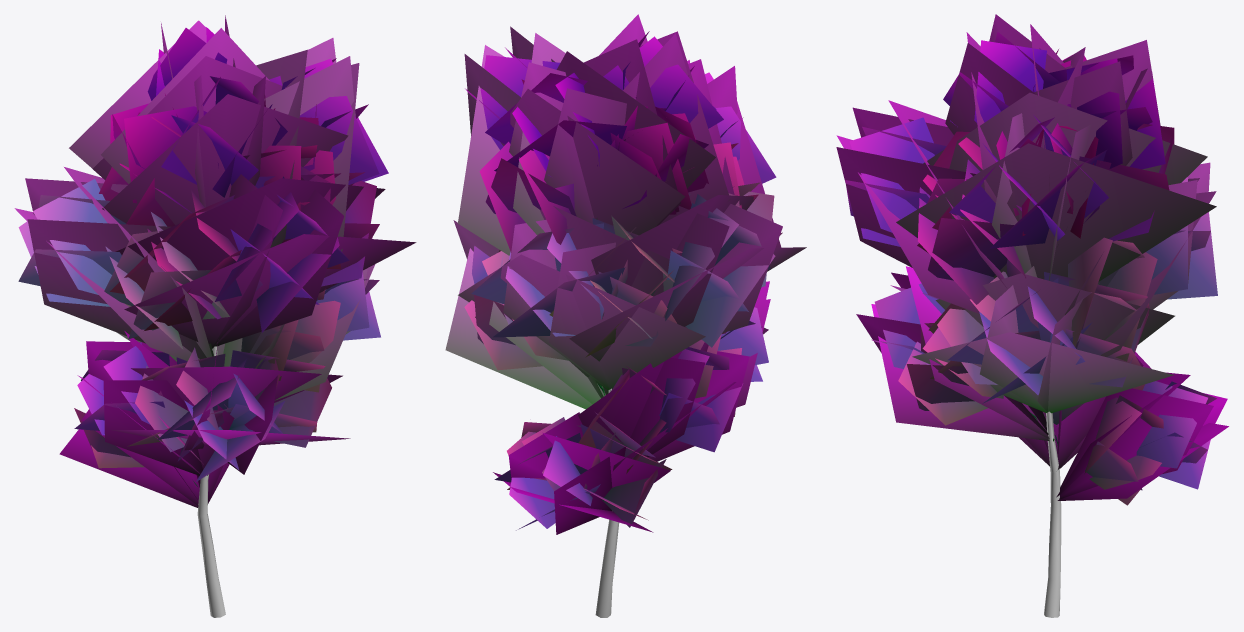
Rendered from oregonash_young.fbx.
3 views of the same model, side by side, from view 1: azimuth 30°, elevation 25°; view 2: azimuth 150°, elevation 25°; view 3: azimuth 270°, elevation 25° (orthographic).
Visible parts, largest first — view 1: tree_shadow, tree_branches_lod0, tree_trunk_lod0; view 2: tree_shadow, tree_branches_lod0, tree_trunk_lod0; view 3: tree_shadow, tree_branches_lod0, tree_trunk_lod0.
Part boxes in pixels (x1,y1,x2,y2): tree_shadow: [14, 15, 416, 507]; tree_branches_lod0: [18, 27, 388, 481]; tree_trunk_lod0: [197, 346, 225, 617]; tree_shadow: [445, 14, 806, 534]; tree_branches_lod0: [464, 31, 782, 530]; tree_trunk_lod0: [595, 388, 619, 617]; tree_shadow: [836, 14, 1228, 500]; tree_branches_lod0: [845, 32, 1217, 505]; tree_trunk_lod0: [1044, 411, 1061, 617].
Size of what is drawn, in the model's own units: 6.16 by 10.12 by 6.2.
